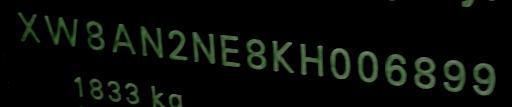letter: (42, 12, 80, 48), (268, 37, 298, 78), (136, 21, 166, 60), (188, 27, 218, 66), (297, 41, 327, 80), (470, 58, 498, 99), (108, 20, 138, 57), (440, 57, 468, 96), (326, 44, 354, 81), (410, 53, 438, 90), (243, 34, 269, 73), (355, 47, 381, 86), (382, 51, 408, 88), (16, 9, 42, 45), (165, 27, 189, 64), (218, 32, 242, 69), (82, 18, 108, 52)
